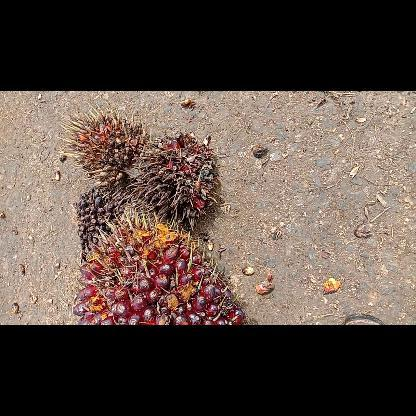TBS abnormal: (132, 130, 222, 233), (54, 106, 146, 180), (76, 181, 134, 263)
TBS masak: (70, 204, 250, 324)
